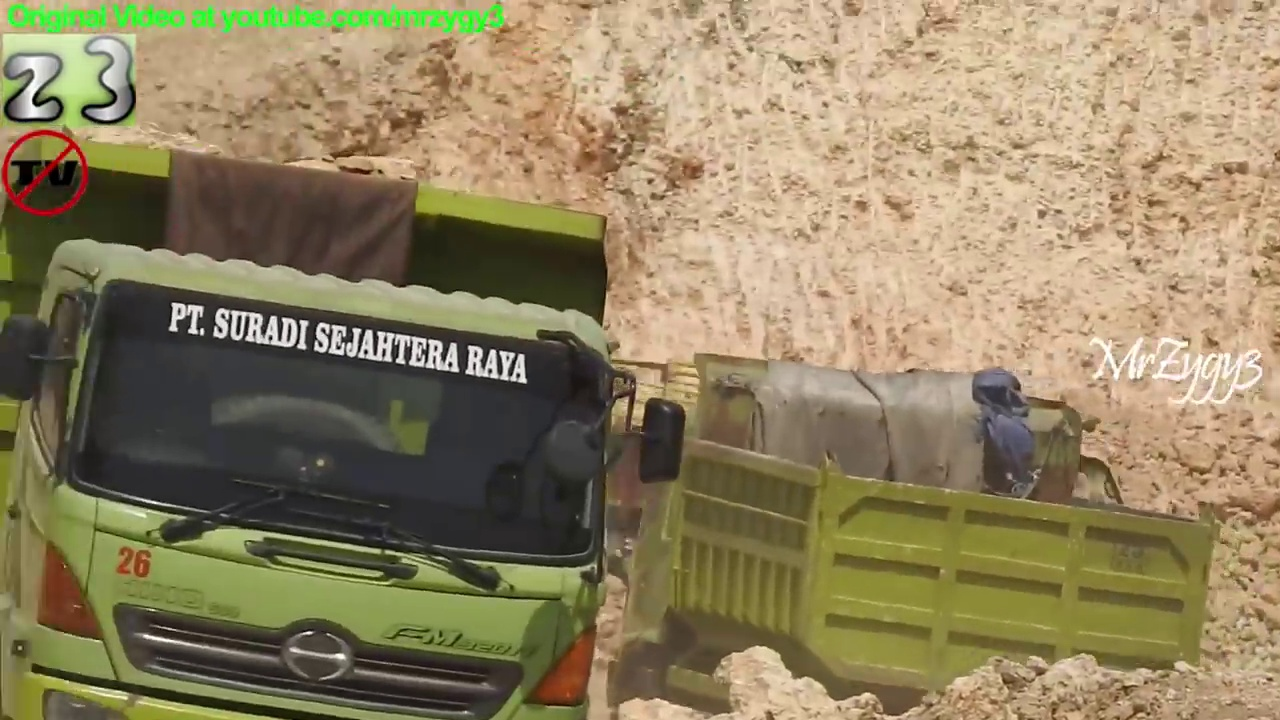truck: (3, 128, 693, 720), (612, 337, 1219, 720)
